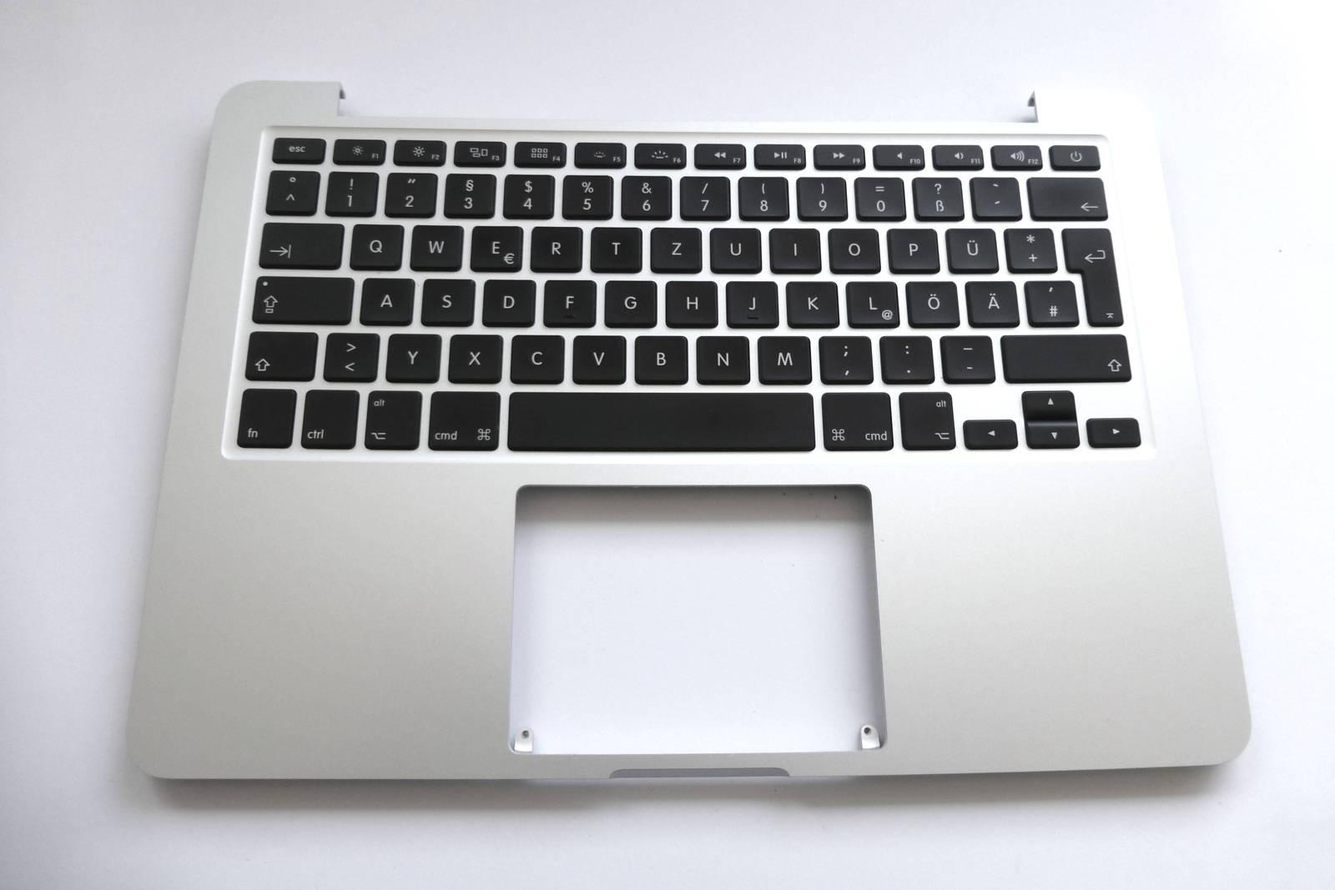0: (852, 173, 905, 219)
1: (323, 168, 376, 214)
2: (382, 168, 436, 215)
3: (441, 170, 495, 216)
4: (501, 171, 553, 216)
5: (559, 171, 612, 217)
6: (618, 172, 671, 218)
7: (678, 173, 730, 218)
8: (735, 173, 788, 219)
9: (793, 173, 847, 219)
a: (357, 274, 413, 323)
accent: (968, 173, 1020, 217)
ae: (962, 276, 1018, 324)
alt-left: (360, 386, 424, 450)
altgr-right: (895, 389, 955, 450)
b: (631, 332, 688, 382)
c: (506, 330, 564, 382)
caret: (264, 166, 318, 212)
comma: (815, 331, 871, 381)
d: (479, 275, 534, 324)
del: (1025, 173, 1106, 219)
e: (467, 222, 521, 269)
enter: (1059, 223, 1121, 324)
f: (541, 276, 594, 324)
g: (602, 276, 655, 325)
h: (662, 276, 717, 325)
hash: (1021, 277, 1077, 324)
i: (767, 224, 819, 270)
j: (723, 277, 777, 325)
k: (783, 276, 838, 325)
keyboard: (218, 127, 1156, 465)
l: (844, 277, 898, 326)
less: (321, 329, 379, 380)
m: (753, 331, 811, 383)
minus: (936, 332, 993, 380)
n: (693, 332, 749, 383)
o: (825, 224, 879, 271)
oe: (903, 277, 958, 324)
p: (884, 224, 938, 270)
plus: (1002, 224, 1055, 269)
point: (876, 332, 932, 380)
q: (347, 219, 402, 268)
r: (527, 223, 582, 270)
s: (418, 275, 473, 324)
shift-left: (243, 327, 317, 380)
shift-lock: (251, 272, 352, 322)
shift-right: (998, 329, 1128, 381)
space: (505, 389, 813, 450)
ss: (910, 173, 963, 218)
strg-left: (299, 386, 359, 450)
t: (587, 223, 641, 269)
tab: (257, 219, 342, 267)
u: (707, 224, 761, 271)
ue: (944, 224, 997, 270)
v: (569, 330, 626, 382)
w: (407, 220, 461, 269)
x: (446, 330, 501, 381)
y: (384, 329, 440, 380)
z: (647, 224, 701, 270)
